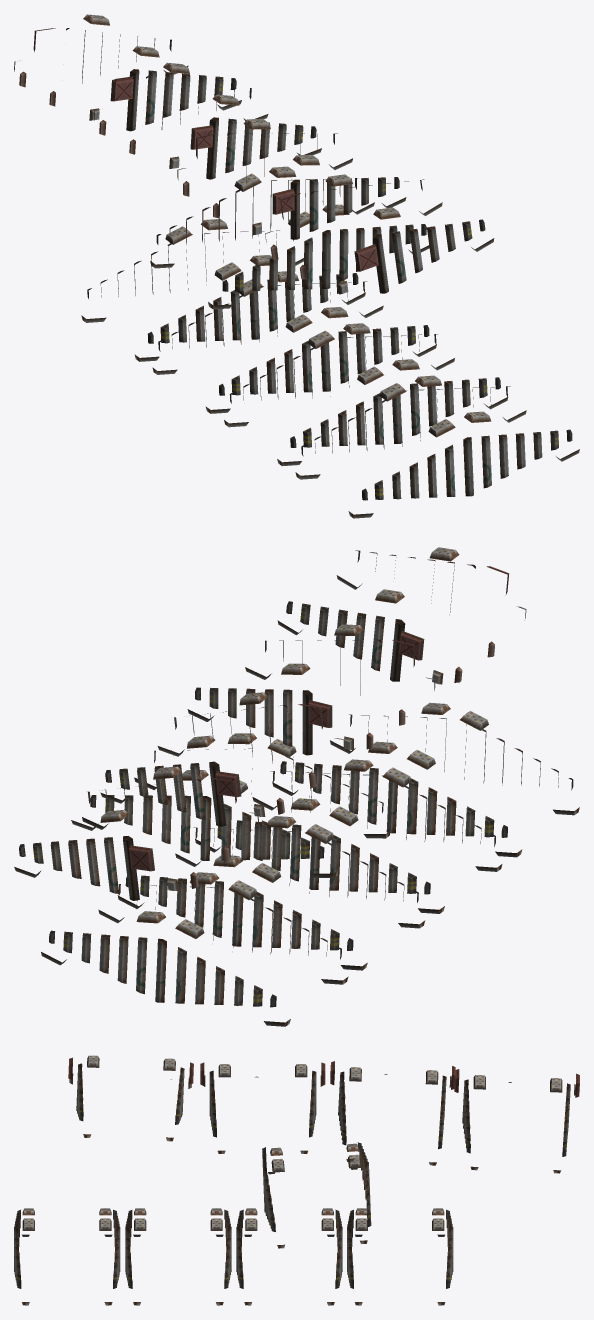
File: prop_static_tan_container_01_12.glb
3 views of the same model, one above another, from view 1: azimuth 30°, elevation 25°; view 2: azimuth 150°, elevation 25°; view 3: azimuth 270°, elevation 25° (orthographic). The views are drawn at different scales.
Visible parts, largest first — view 1: tan_container_01_11_LOD0; view 2: tan_container_01_11_LOD0; view 3: tan_container_01_11_LOD0.
Part boxes in pixels (x1,y1,x2,y2): tan_container_01_11_LOD0: (14, 14, 579, 518); tan_container_01_11_LOD0: (14, 547, 579, 1026); tan_container_01_11_LOD0: (14, 1055, 579, 1305).
Size of what is drawn, in the model's own units: 4.14 by 4.22 by 10.73.
Materials: 1 (1 with a texture image).
